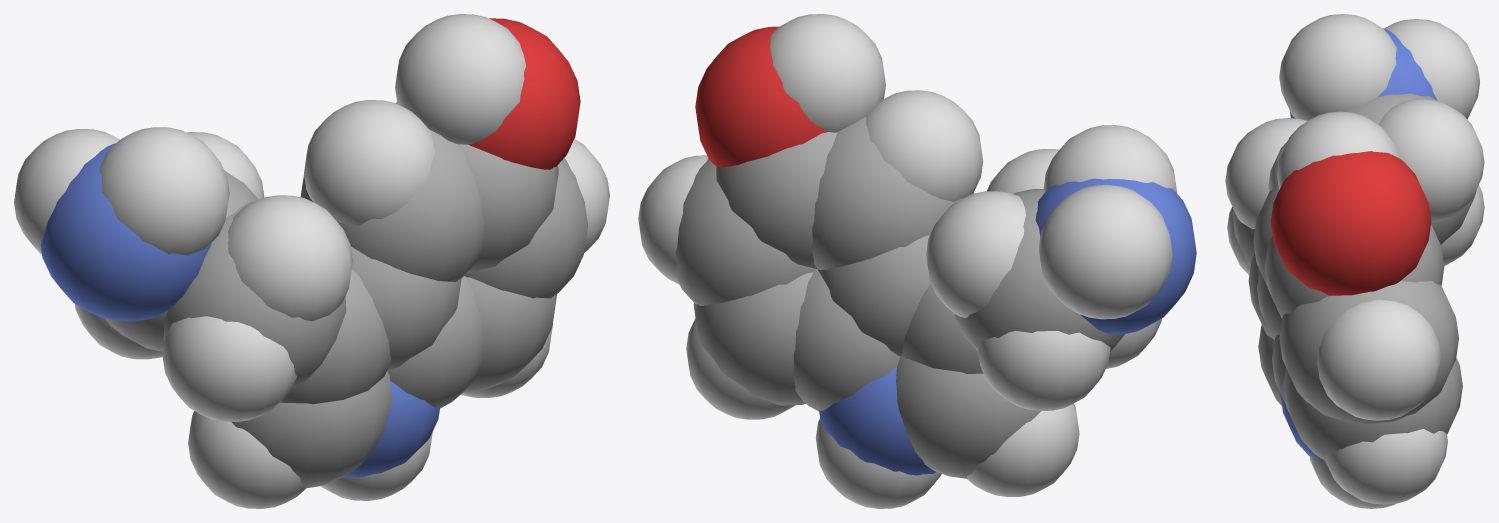
Rendered from serotonin-cpk.glb.
The picture shows the model from 3 angles, left to right: view 1: azimuth 30°, elevation 25°; view 2: azimuth 150°, elevation 25°; view 3: azimuth 270°, elevation 25°; orthographic projection. The views are drawn at different scales.
Visible parts, largest first — view 1: serotonin-cpk; view 2: serotonin-cpk; view 3: serotonin-cpk.
Part boxes in pixels (<box>): serotonin-cpk: <box>14,14,609,508</box>; serotonin-cpk: <box>638,14,1196,508</box>; serotonin-cpk: <box>1225,14,1484,508</box>.
Bounding box in the file's own units: 11.02 × 8.83 × 4.91.
